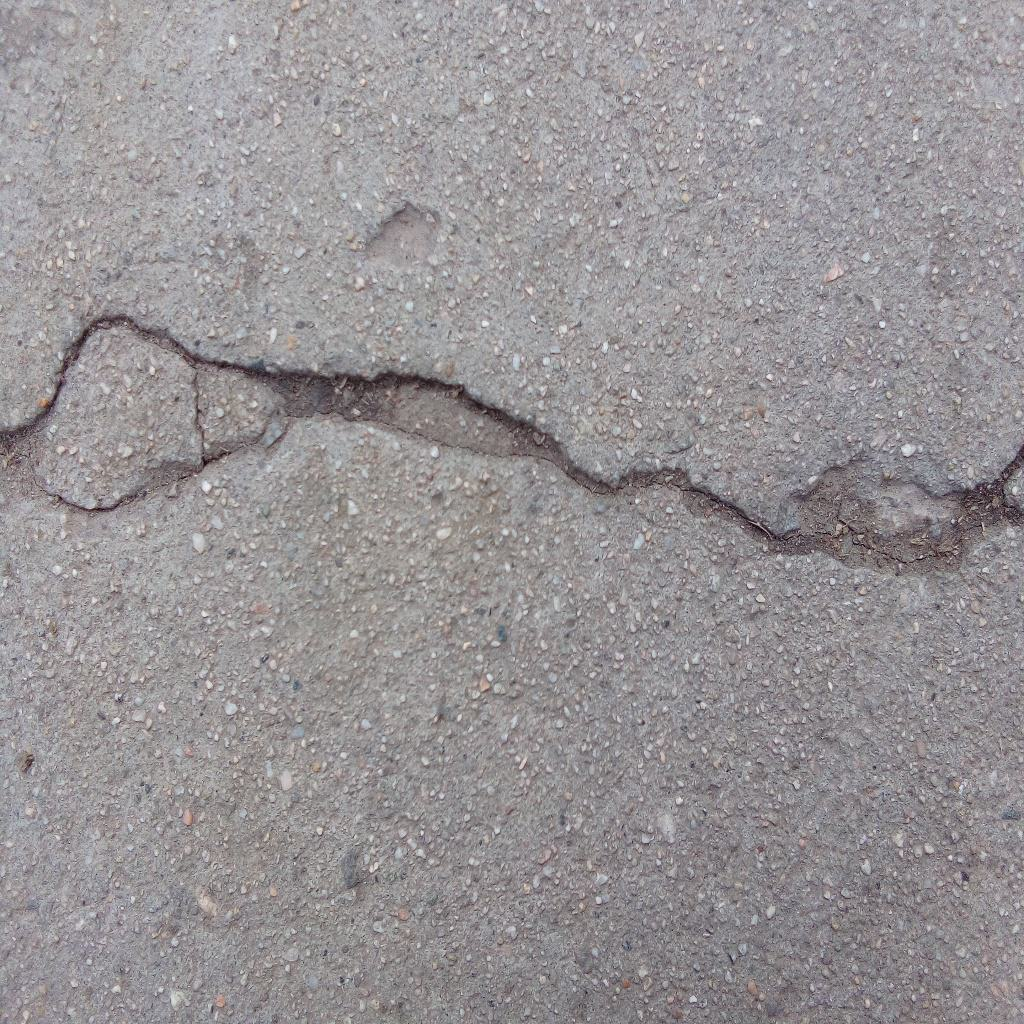Crack: (567, 459, 792, 561)
Spalling: (1, 313, 567, 514), (792, 446, 1024, 577), (364, 201, 443, 276)
